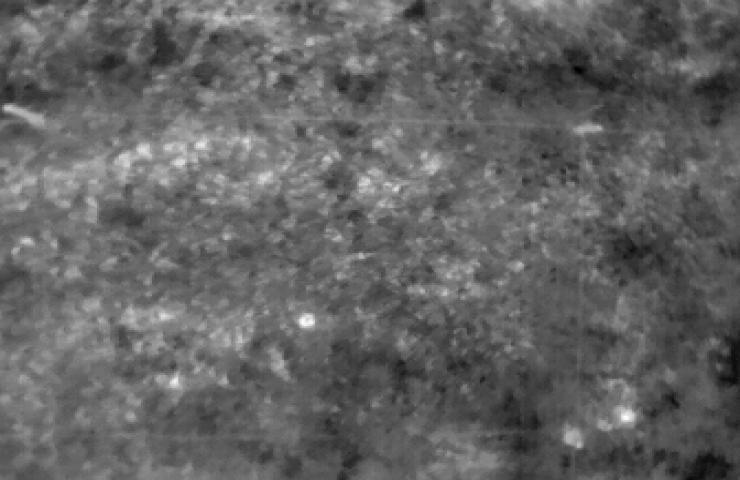landmines: (297, 310, 319, 331)
